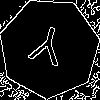Y: (24, 23, 68, 76)
